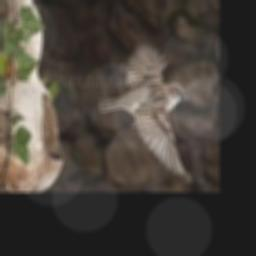Sparrow: (98, 41, 193, 183)
